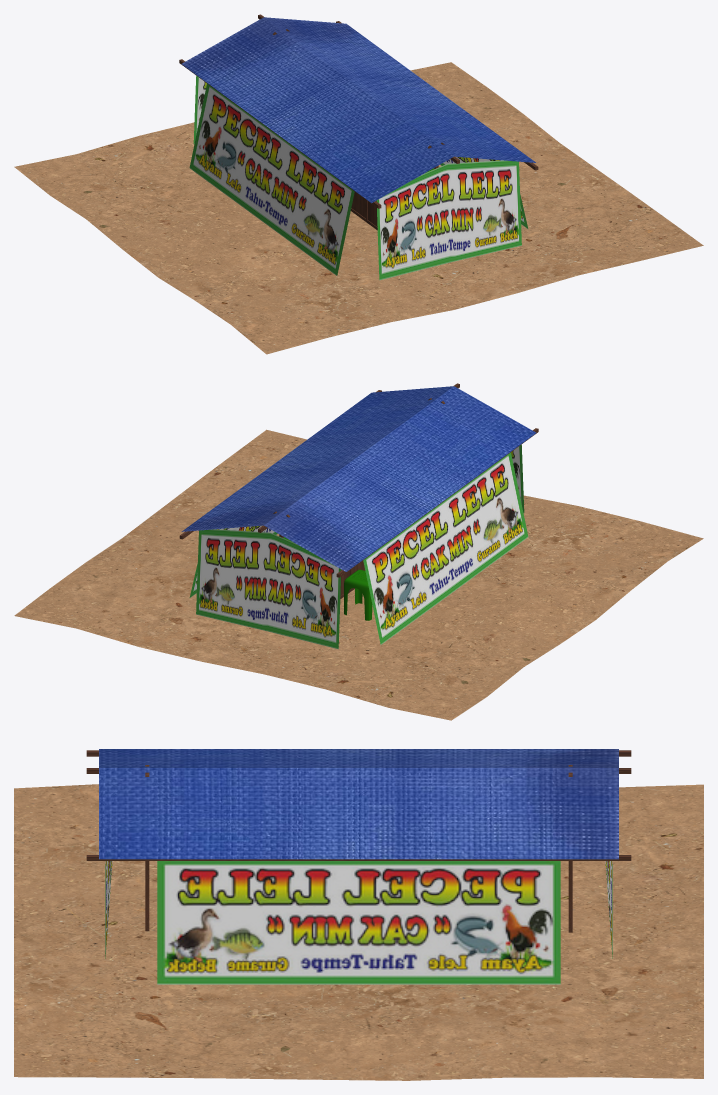
The model's file is pecel_lele.glb.
3 renders of one model, top to bottom at view 1: azimuth 30°, elevation 25°; view 2: azimuth 150°, elevation 25°; view 3: azimuth 270°, elevation 25°, orthographic. The views are drawn at different scales.
Parts seen in each view (by area): view 1: Plane.002, Terpall, Banner_pecel, Banner_pecel.001, Cube.002; view 2: Plane.002, Terpall, Banner_pecel, Banner_pecel.001, Cube.007; view 3: Plane.002, Terpall, Banner_pecel, Cube.013, Banner_pecel.001, Cube.014.
Part boxes in pixels (x1,y1,x2,y2): Plane.002: (14, 62, 703, 354); Terpall: (181, 17, 535, 203); Banner_pecel: (189, 83, 528, 275); Banner_pecel.001: (193, 76, 521, 280); Cube.002: (351, 192, 377, 230); Plane.002: (14, 429, 703, 720); Terpall: (181, 386, 536, 571); Banner_pecel: (189, 452, 528, 644); Banner_pecel.001: (196, 444, 524, 649); Cube.007: (344, 569, 372, 620); Plane.002: (14, 784, 703, 1080); Terpall: (99, 749, 618, 859); Banner_pecel: (157, 861, 560, 984); Cube.013: (86, 855, 631, 860); Banner_pecel.001: (105, 861, 612, 958); Cube.014: (145, 765, 572, 932).
Bounding box in the file's own units: 25.94 × 7.05 × 25.94.
Materials: 13 (5 with a texture image).
